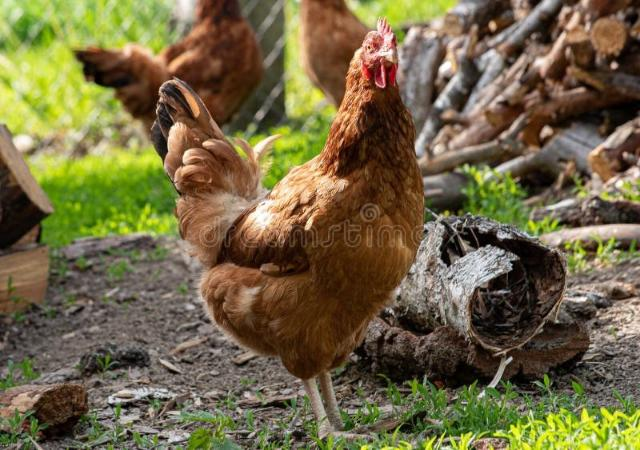Chicken: (151, 16, 426, 433), (76, 0, 264, 134)
